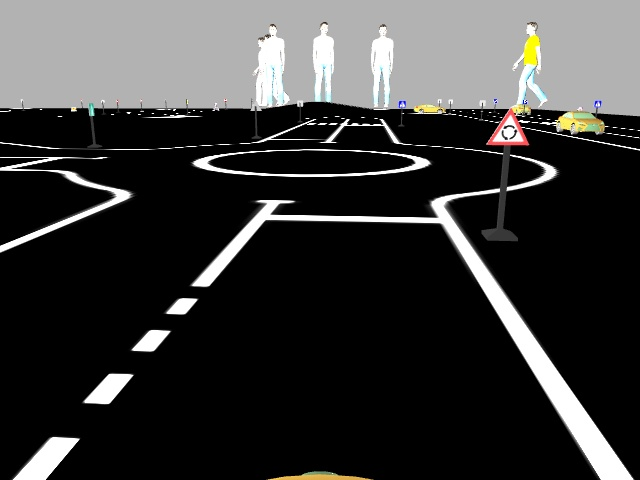Roundabout: (484, 107, 529, 149)
